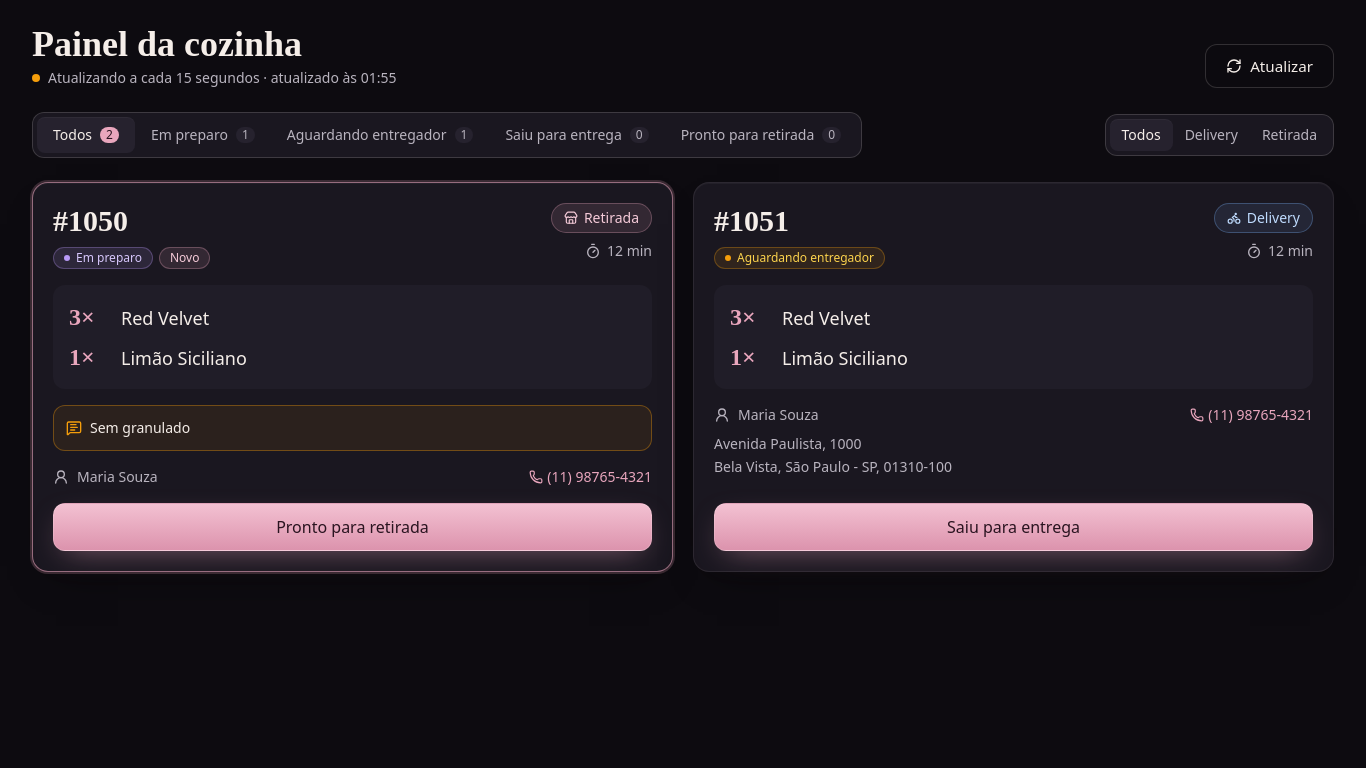
Test: KitchenPage (US13/US14) › avança o pedido com controle otimista (expectedStatus)
The image size is (1366, 768).
What coordinates should you click on to do the following:
click the button "Pronto para retirada"
I would click on:
 (352, 527)
Its box is [53,503,652,551].
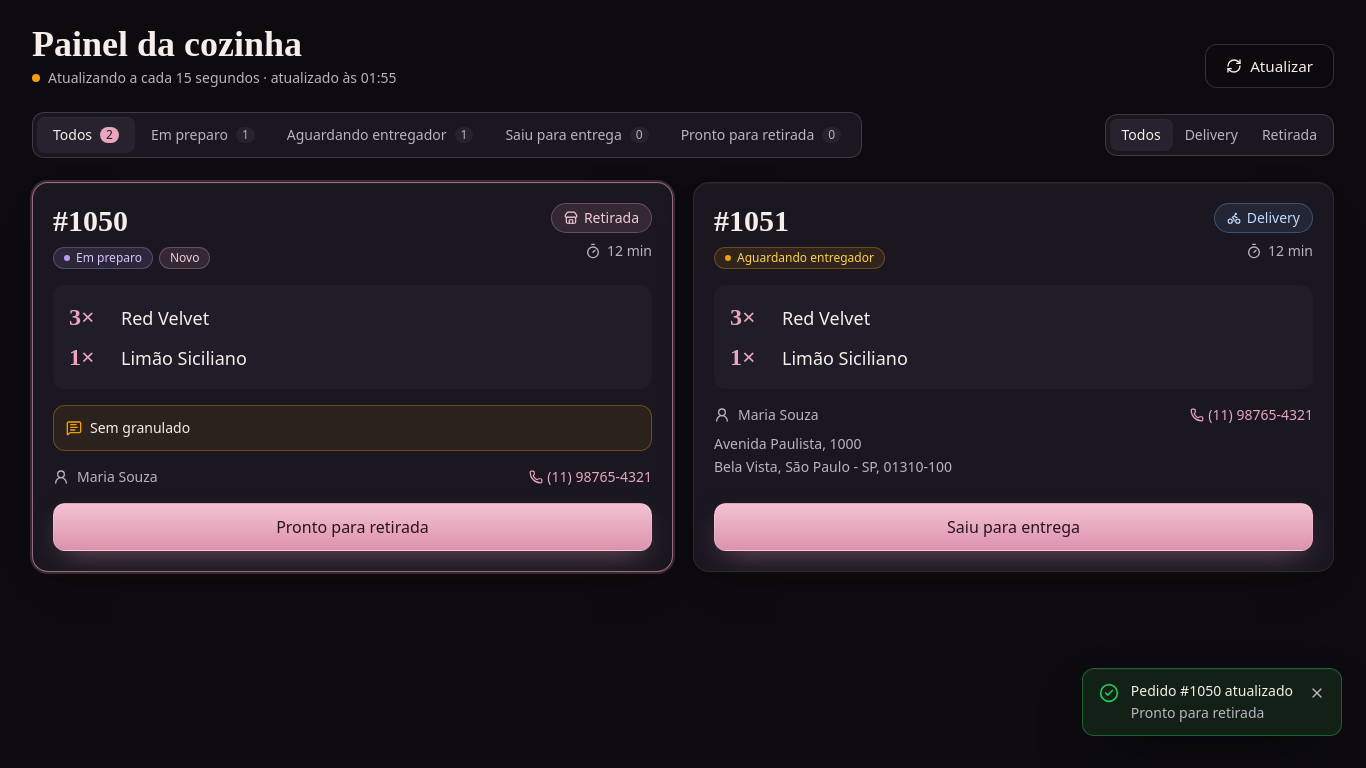
expect the text "Pedido #1050 atualizado" is shown: met, box [1131,681,1293,701]
